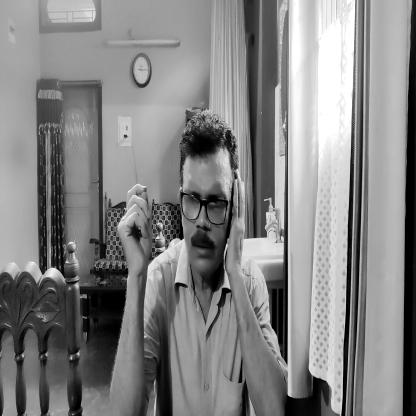Normal: (176, 110, 235, 278)
